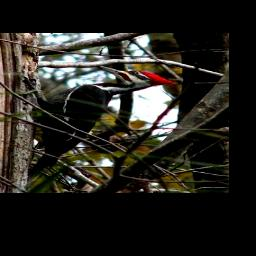Woodpecker: (18, 64, 176, 181)
